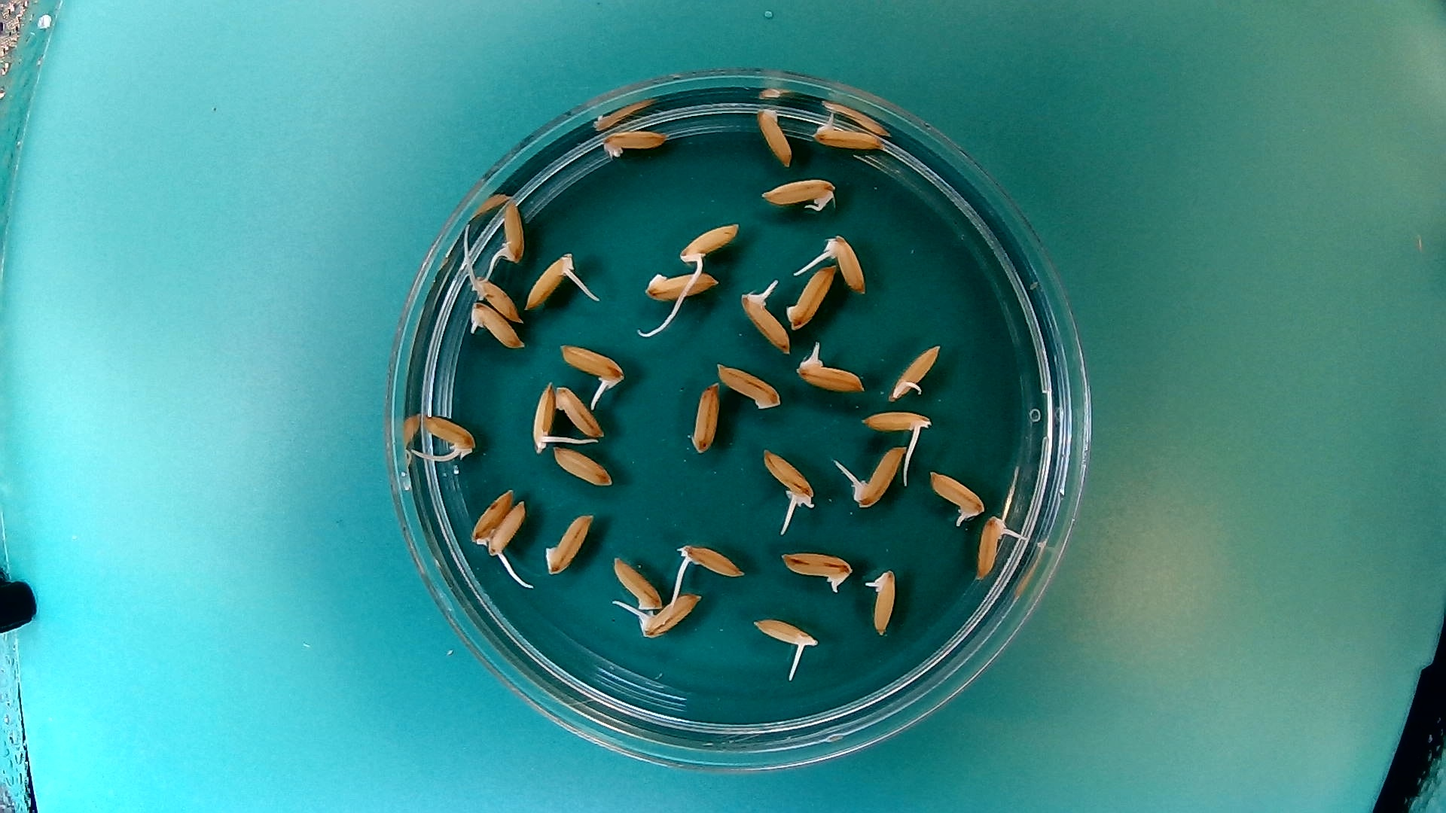no: (712, 358, 786, 412), (541, 508, 596, 577), (784, 264, 837, 330), (611, 553, 664, 614), (553, 381, 606, 441), (640, 263, 721, 302), (550, 446, 615, 489), (467, 489, 515, 546), (685, 379, 720, 457), (751, 104, 794, 167), (599, 123, 672, 160)
yes: (840, 442, 909, 507), (738, 279, 792, 353), (758, 444, 819, 509), (778, 547, 857, 597), (557, 340, 626, 397), (793, 342, 865, 394), (635, 587, 705, 640), (927, 466, 985, 528), (887, 339, 944, 402), (524, 248, 581, 310), (814, 230, 869, 294), (674, 219, 742, 269), (758, 174, 840, 215), (468, 263, 525, 321), (417, 411, 477, 464), (468, 300, 526, 351), (859, 406, 937, 443), (486, 495, 527, 565), (679, 539, 748, 580), (862, 563, 899, 638), (810, 117, 886, 152), (527, 377, 560, 455), (975, 513, 1009, 580), (754, 618, 821, 650), (495, 195, 526, 264)
